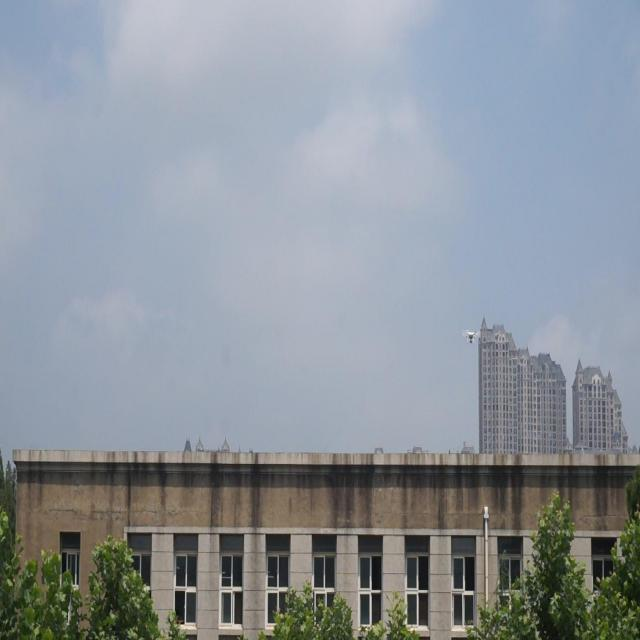UAV: (462, 329, 480, 345)
